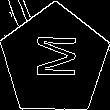M_W: (30, 37, 79, 84)
